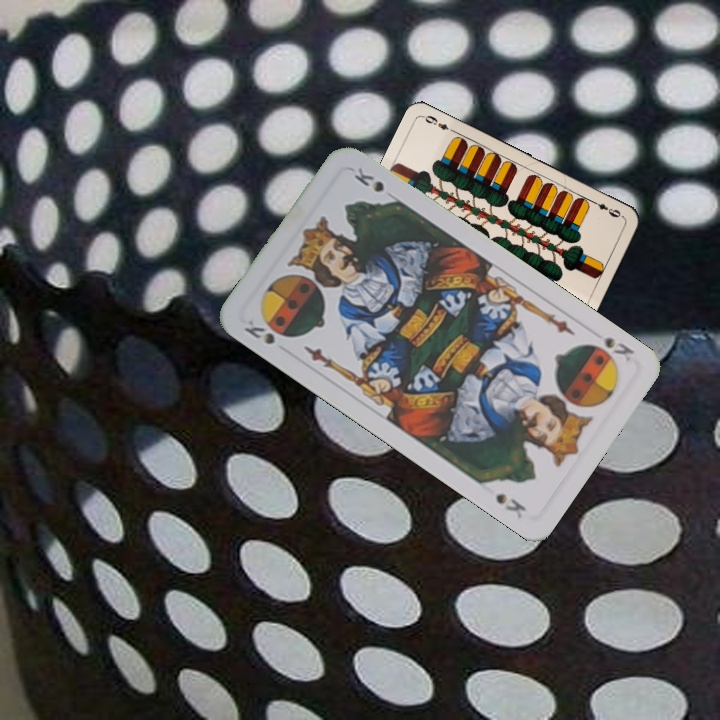E9: (588, 196, 626, 220)
SK: (598, 332, 637, 364), (240, 315, 278, 347)
